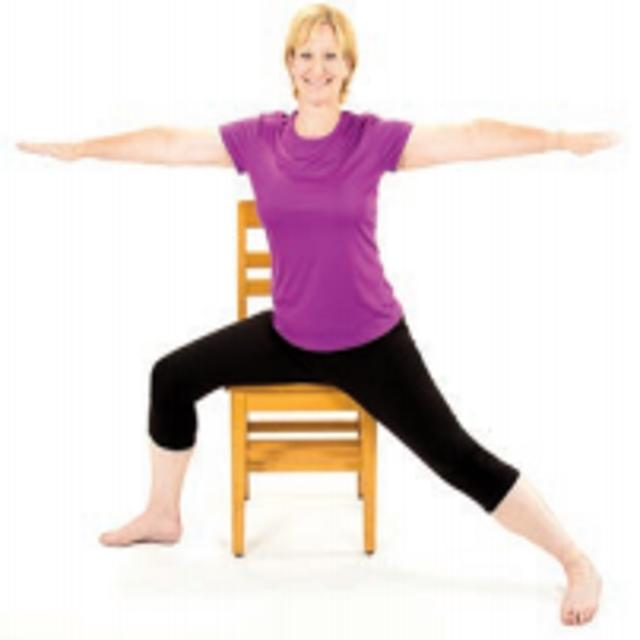Warrior_II: (12, 5, 614, 623)
